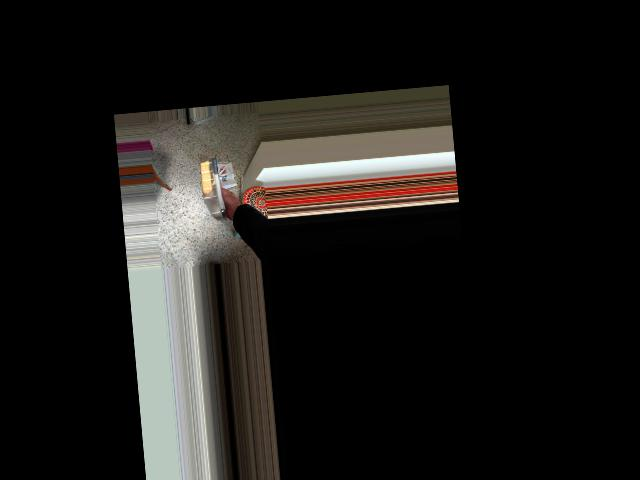cheese: (191, 155, 238, 218)
